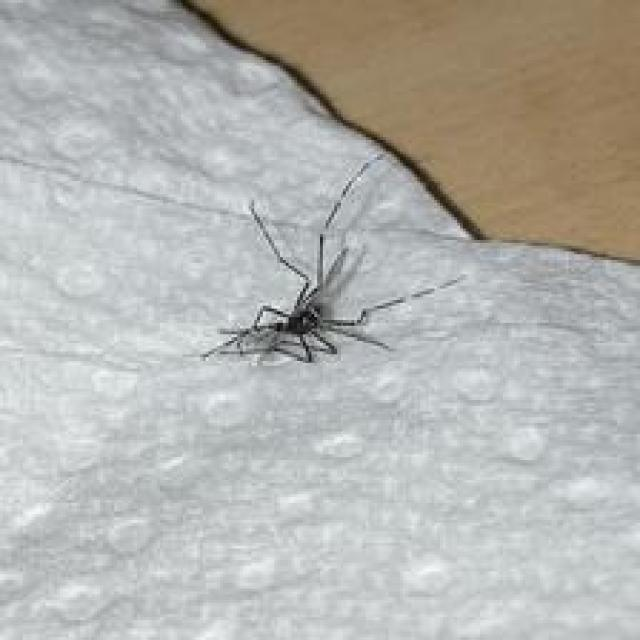Aedes albopictus: (199, 153, 464, 367)
